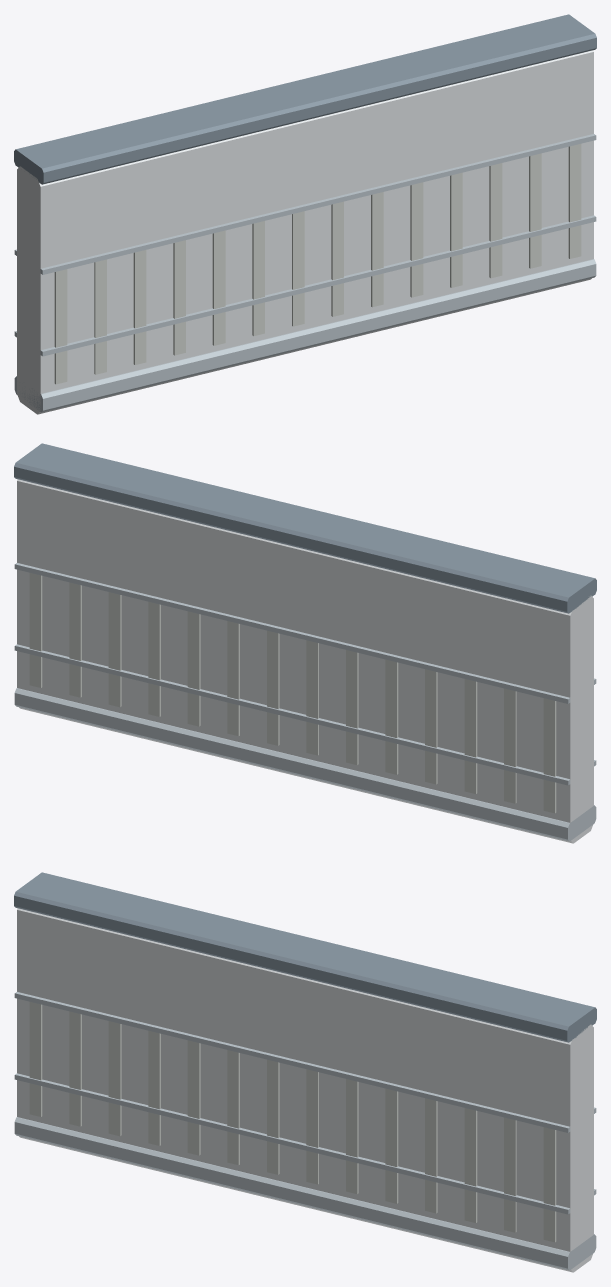
The model's file is wall_school_craft.glb.
The picture shows the model from 3 angles, top to bottom: view 1: azimuth 30°, elevation 25°; view 2: azimuth 150°, elevation 25°; view 3: azimuth 330°, elevation 25°; orthographic projection.
Visible parts, largest first — view 1: Part_001, Part_002, Part_003, Part_033, Part_035, Part_005, Part_009, Part_027, Part_013, Part_031, Part_023, Part_007 (+7 smaller); view 2: Part_001, Part_002, Part_003, Part_032, Part_034, Part_004, Part_008, Part_026, Part_012, Part_030, Part_022, Part_006 (+7 smaller); view 3: Part_001, Part_002, Part_003, Part_033, Part_035, Part_031, Part_027, Part_009, Part_005, Part_023, Part_013, Part_019 (+7 smaller).
Boxes of the visible parts, x1,y1,x2,y2 form: Part_001: (17, 50, 593, 414); Part_002: (14, 14, 596, 184); Part_003: (14, 259, 596, 412); Part_033: (40, 134, 596, 274); Part_035: (40, 215, 596, 356); Part_005: (54, 269, 67, 384); Part_009: (133, 250, 146, 364); Part_027: (489, 163, 502, 278); Part_013: (212, 230, 225, 345); Part_031: (568, 144, 581, 258); Part_023: (410, 182, 423, 297); Part_007: (94, 259, 106, 374); Part_001: (17, 479, 593, 843); Part_002: (14, 443, 596, 613); Part_003: (14, 688, 596, 841); Part_032: (14, 563, 570, 703); Part_034: (14, 644, 570, 785); Part_004: (543, 698, 556, 813); Part_008: (464, 679, 477, 793); Part_026: (108, 592, 121, 707); Part_012: (385, 659, 398, 774); Part_030: (29, 573, 42, 687); Part_022: (187, 611, 200, 726); Part_006: (504, 688, 516, 803); Part_001: (17, 908, 593, 1272); Part_002: (14, 872, 596, 1042); Part_003: (14, 1117, 596, 1270); Part_033: (14, 992, 570, 1132); Part_035: (14, 1073, 570, 1214); Part_031: (543, 1127, 556, 1242); Part_027: (464, 1108, 477, 1222); Part_009: (108, 1021, 121, 1136); Part_005: (29, 1002, 42, 1116); Part_023: (385, 1088, 398, 1203); Part_013: (187, 1040, 200, 1155); Part_019: (306, 1069, 318, 1184).
Bounding box in the file's own units: 2.7 × 1.16 × 0.25.
